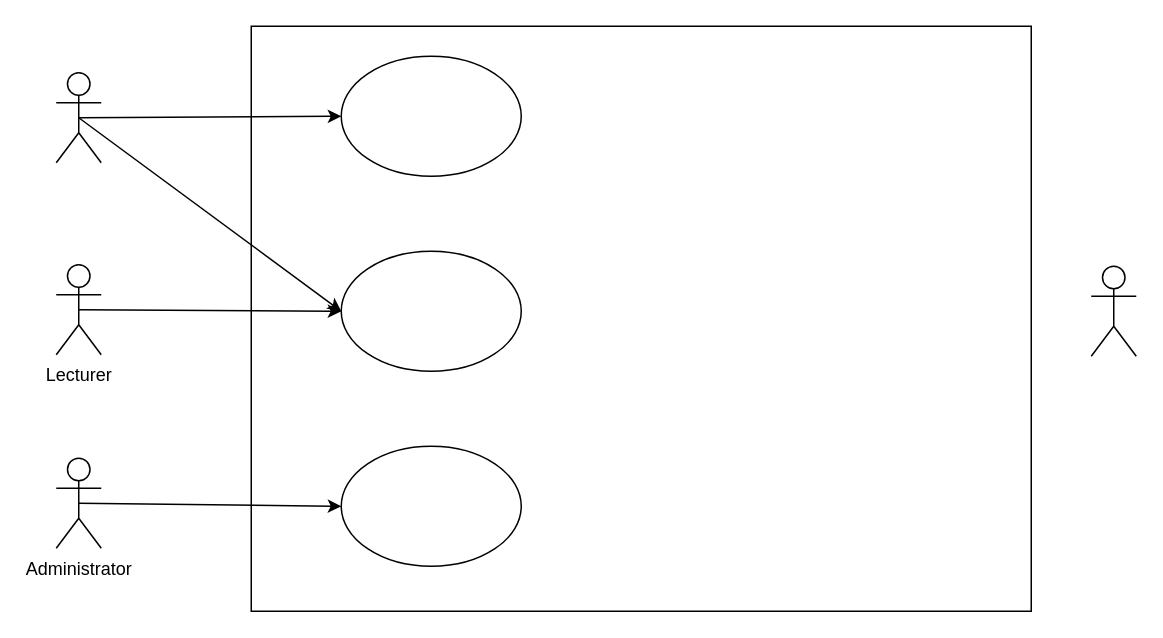
Some shapes in this 1163 by 638 pixel diagram are drawn without their labels. Each missing label, with the centre of its shape:
"Actor" belongs at [1113,310].
"Student" belongs at [78,117].
